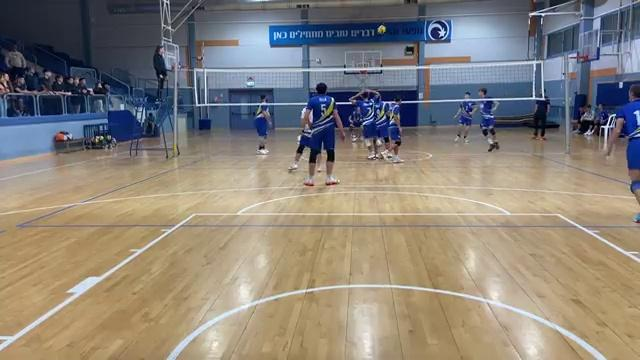ball: (374, 23, 387, 35)
